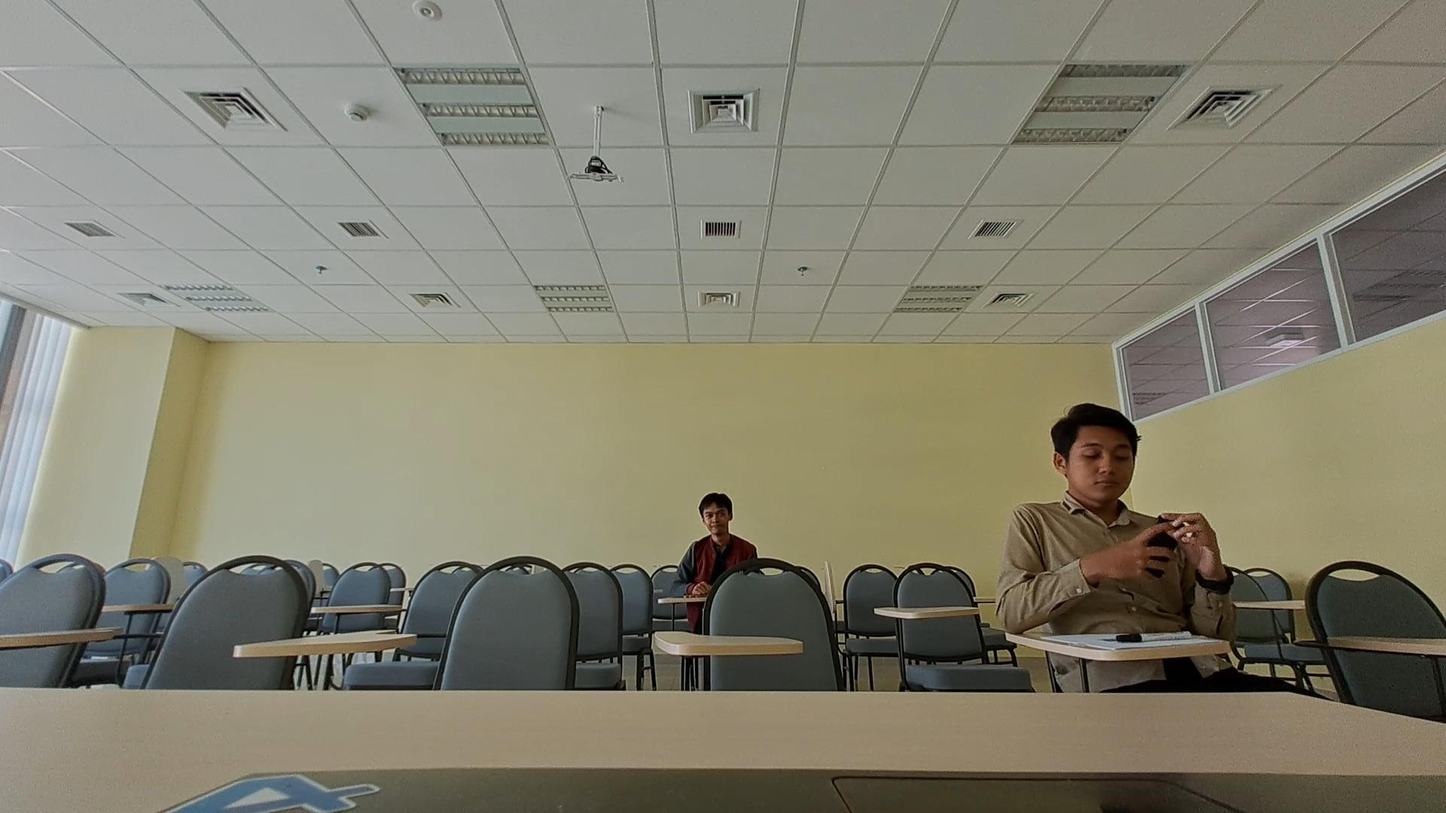phone: (997, 402, 1230, 631)
study: (668, 491, 762, 592)
